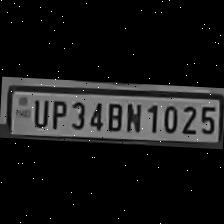0: (158, 100, 178, 132)
1: (142, 100, 160, 132)
2: (178, 100, 198, 134)
3: (66, 96, 86, 128)
4: (85, 96, 105, 130)
5: (196, 100, 216, 134)
B: (102, 97, 124, 130)
N: (123, 99, 143, 133)
P: (46, 94, 68, 128)
U: (28, 95, 48, 127)
